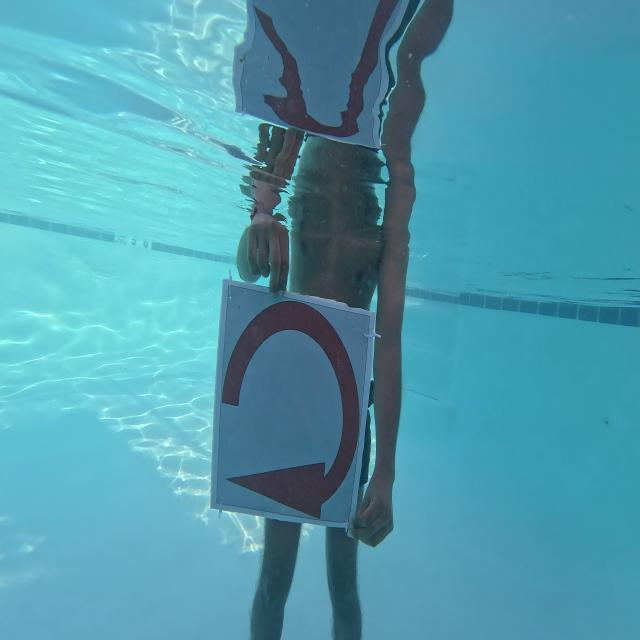red_side: (204, 254, 368, 546)
